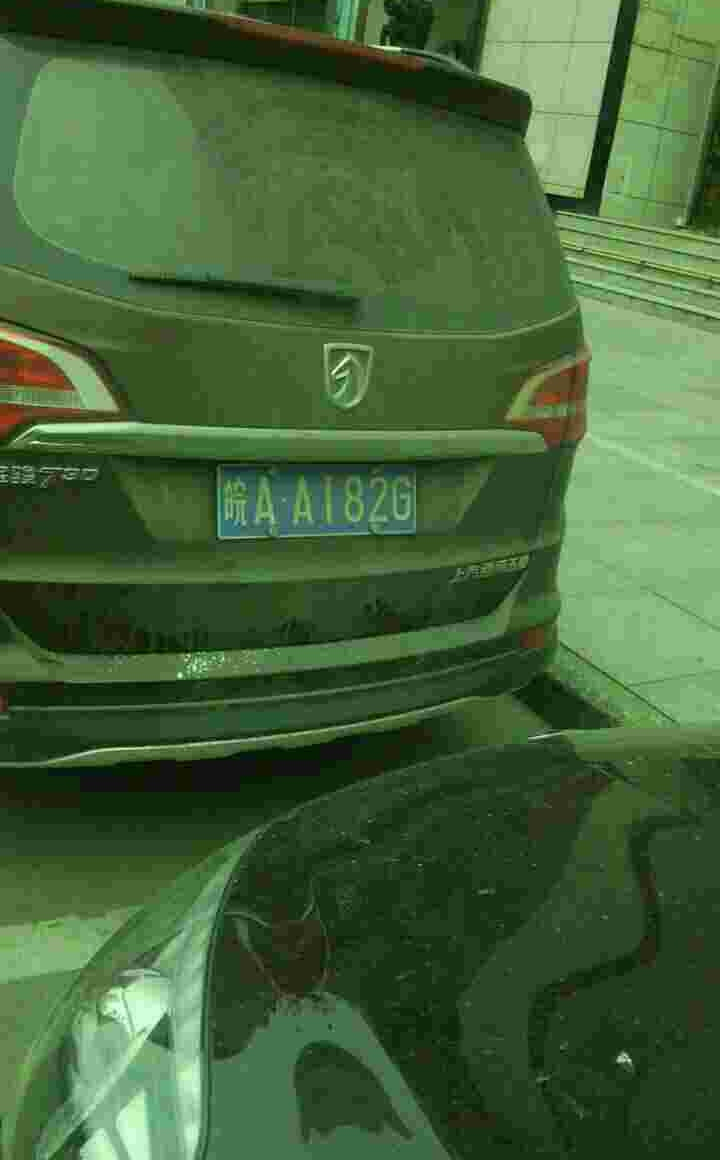license_plate: (220, 471, 430, 542)
